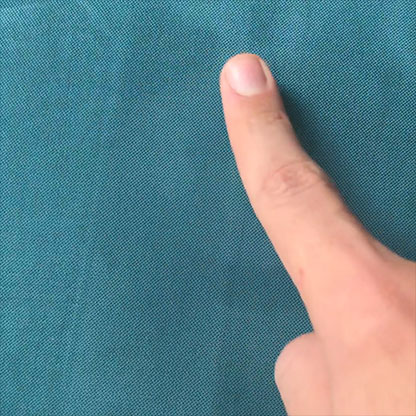fingertip: (209, 44, 285, 110)
